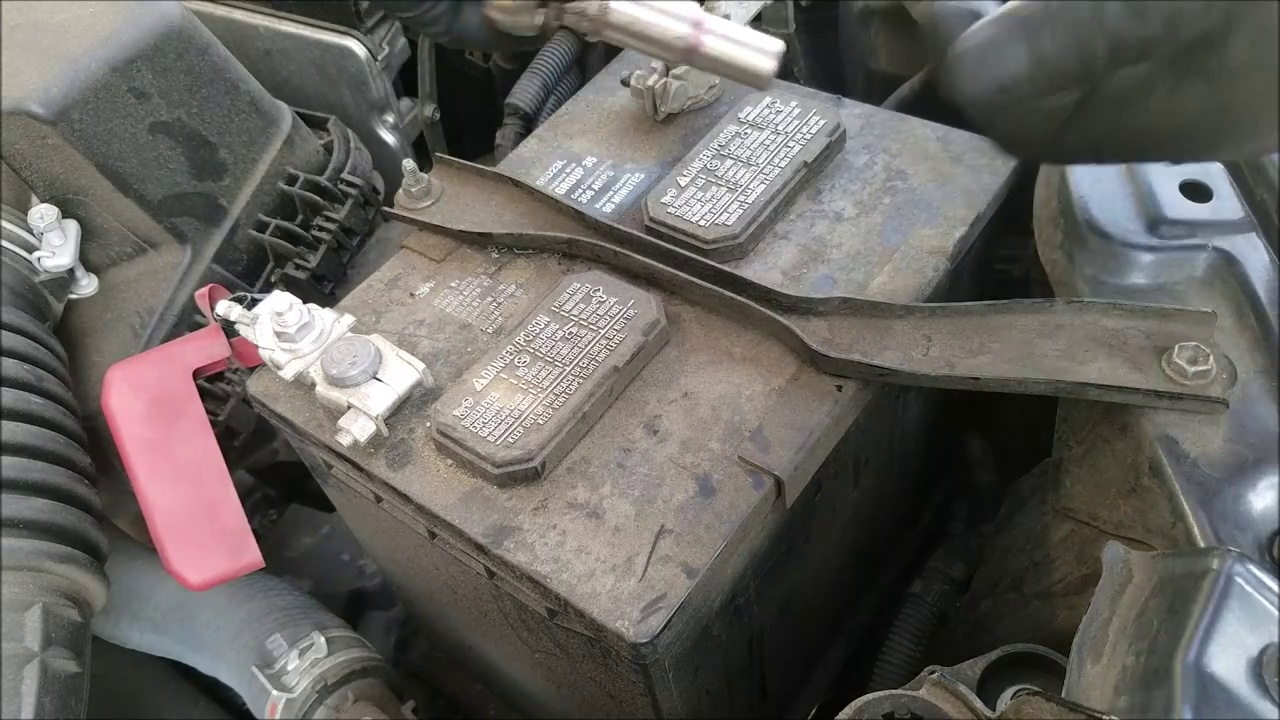battery: (224, 16, 1006, 614)
pos_connected: (130, 278, 423, 505)
